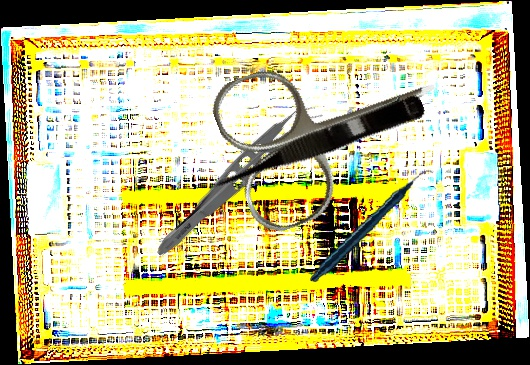Handpiece: (297, 169, 448, 283)
Iris Scissors: (204, 14, 464, 240)
Micro Scissor: (201, 87, 427, 199)
Tissue Forceps: (150, 92, 326, 272)
